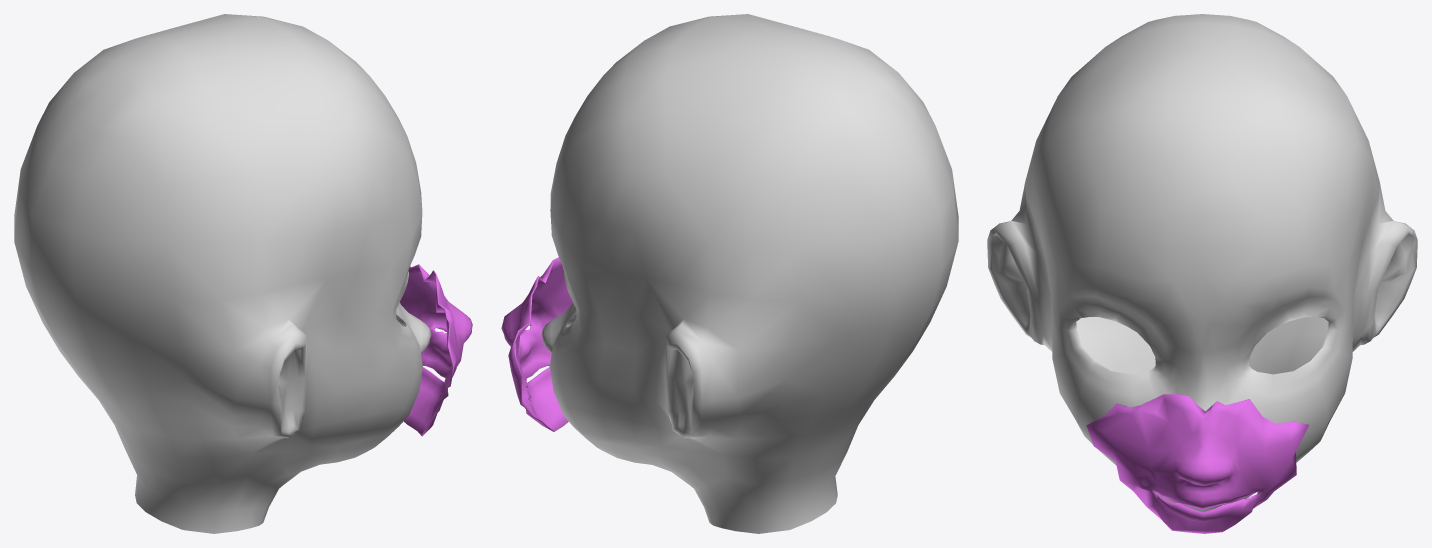
The model's file is mask.fbx.
3 views of the same model, side by side, from view 1: azimuth 30°, elevation 25°; view 2: azimuth 150°, elevation 25°; view 3: azimuth 270°, elevation 25° (orthographic). The views are drawn at different scales.
Parts seen in each view (by area): view 1: Head, Mask; view 2: Head, Mask; view 3: Head, Mask.
Boxes of the visible parts, x1=… form: Head: x1=14, y1=14, x2=431, y2=533; Mask: x1=400, y1=264, x2=472, y2=436; Head: x1=541, y1=14, x2=958, y2=533; Mask: x1=501, y1=257, x2=572, y2=431; Head: x1=987, y1=14, x2=1417, y2=511; Mask: x1=1086, y1=394, x2=1308, y2=533.
Size of the model in its own units: 612 by 645 by 560.
